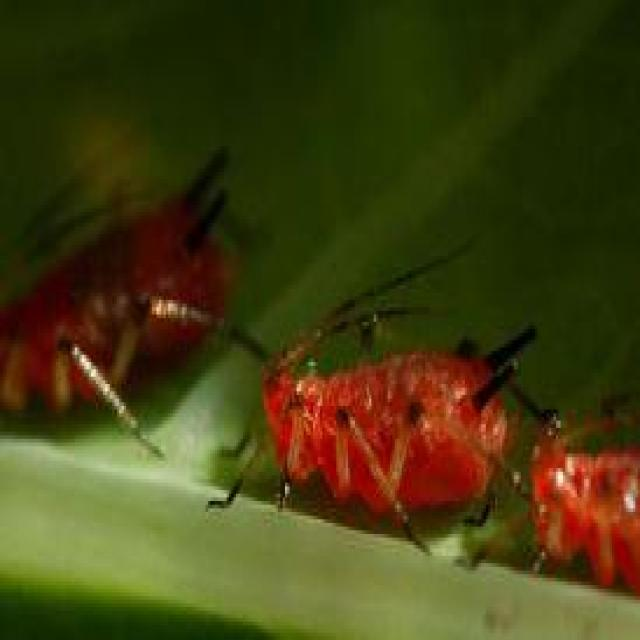Aphids: (225, 268, 557, 582), (17, 140, 258, 451), (503, 370, 639, 601)
